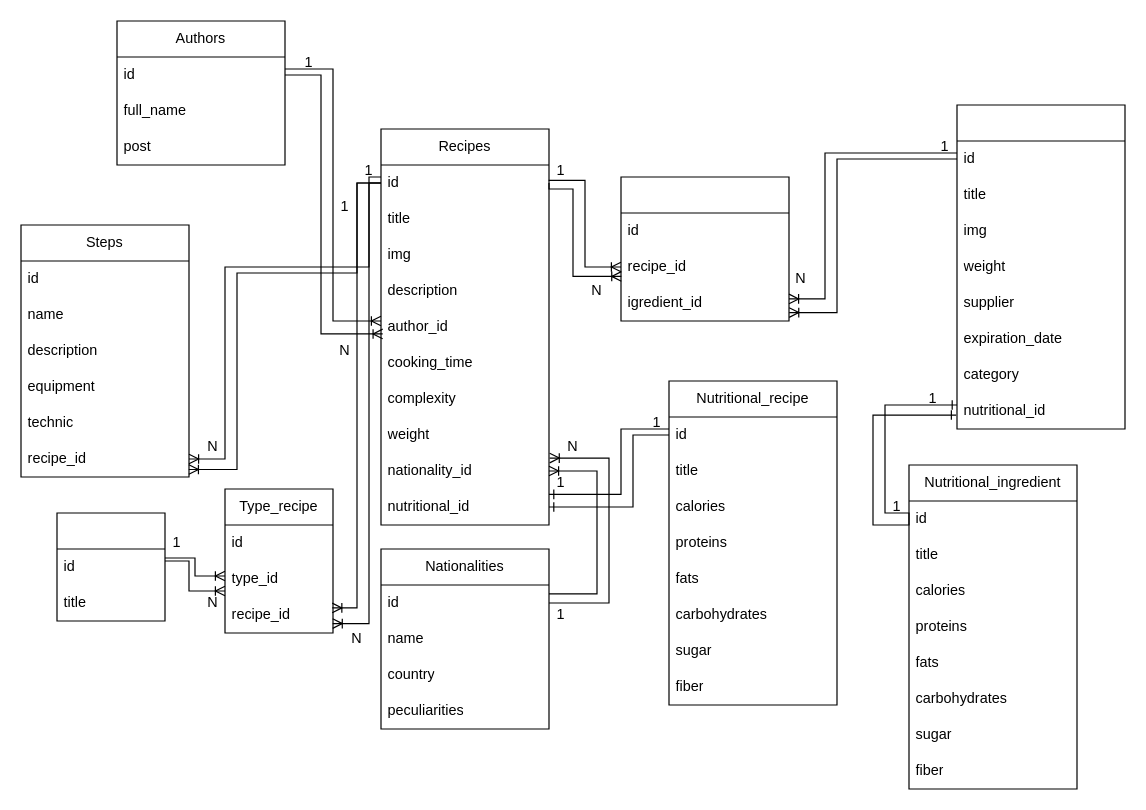
Image size: 1146x810. Some labels were removed from this diagram. The shapes that lost their labels are listed below. From the top down, each one's box as (x1, y1, x2, y2) in pixels, then its label:
(620, 176, 789, 321): Ingredient_recipe
(956, 104, 1125, 429): Ingredients
(56, 512, 165, 621): Types
